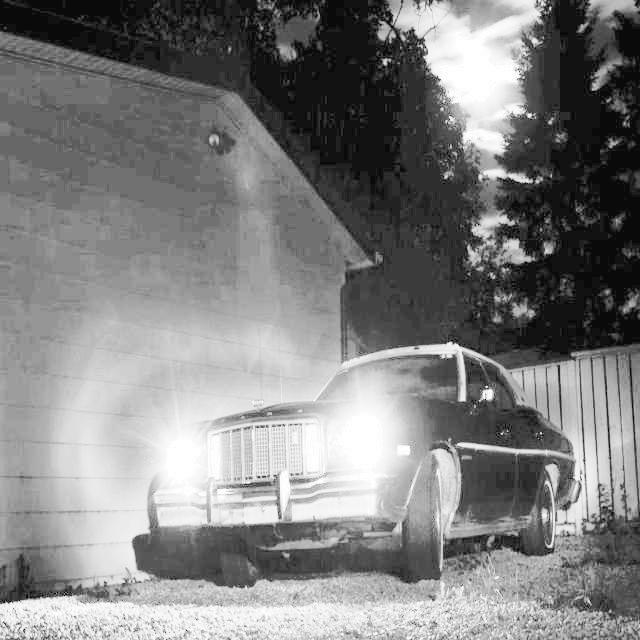Car: (135, 327, 580, 581)
